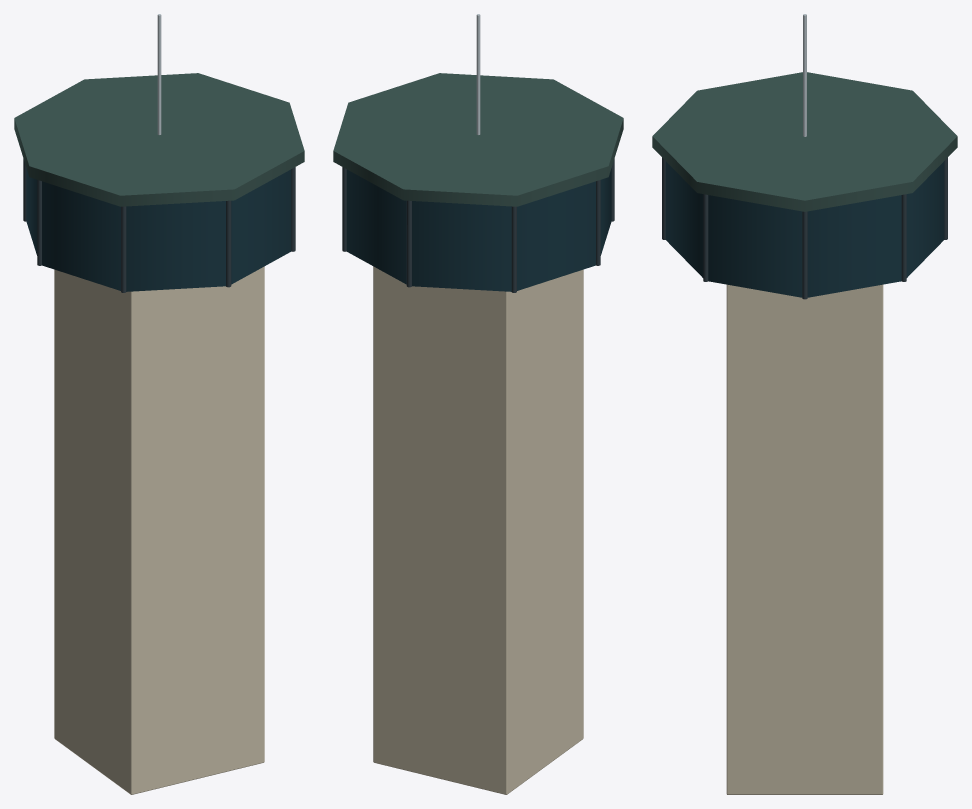
File: control-tower.glb
3 views of the same model, side by side, from view 1: azimuth 30°, elevation 25°; view 2: azimuth 150°, elevation 25°; view 3: azimuth 270°, elevation 25° (orthographic).
Parts seen in each view (by area): view 1: DC_Mesh_DC_Ivory, DC_Mesh_DC_Roof, DC_Mesh_DC_BlueGlass, DC_Mesh_DC_Steel, DC_Mesh_DC_Silver; view 2: DC_Mesh_DC_Ivory, DC_Mesh_DC_Roof, DC_Mesh_DC_BlueGlass, DC_Mesh_DC_Steel, DC_Mesh_DC_Silver; view 3: DC_Mesh_DC_Ivory, DC_Mesh_DC_Roof, DC_Mesh_DC_BlueGlass, DC_Mesh_DC_Steel.
Boxes of the visible parts, x1,y1,x2,y2 form: DC_Mesh_DC_Ivory: [54, 266, 264, 794]; DC_Mesh_DC_Roof: [14, 73, 304, 206]; DC_Mesh_DC_BlueGlass: [26, 168, 291, 291]; DC_Mesh_DC_Steel: [23, 158, 295, 292]; DC_Mesh_DC_Silver: [157, 14, 161, 134]; DC_Mesh_DC_Ivory: [373, 266, 583, 794]; DC_Mesh_DC_Roof: [333, 73, 623, 206]; DC_Mesh_DC_BlueGlass: [346, 168, 611, 291]; DC_Mesh_DC_Steel: [342, 158, 614, 292]; DC_Mesh_DC_Silver: [476, 14, 480, 134]; DC_Mesh_DC_Ivory: [726, 284, 883, 794]; DC_Mesh_DC_Roof: [652, 72, 957, 211]; DC_Mesh_DC_BlueGlass: [665, 161, 944, 297]; DC_Mesh_DC_Steel: [662, 157, 947, 299].
Bounding box in the file's own units: 7.4 × 20 × 7.4.
